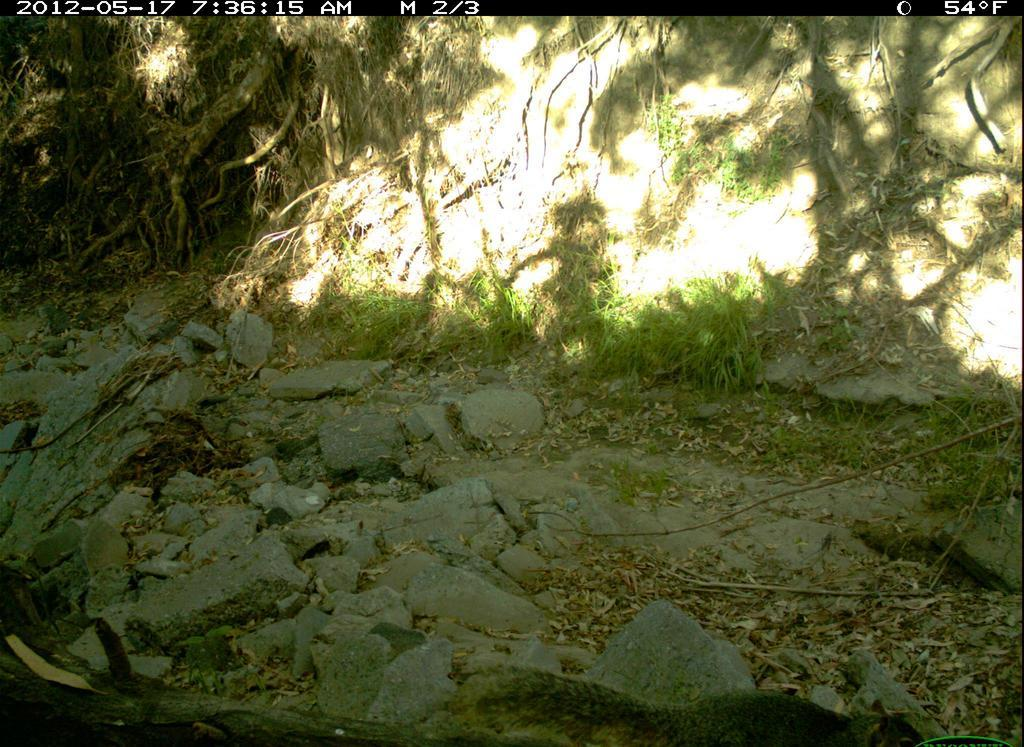squirrel: (450, 649, 941, 747)
